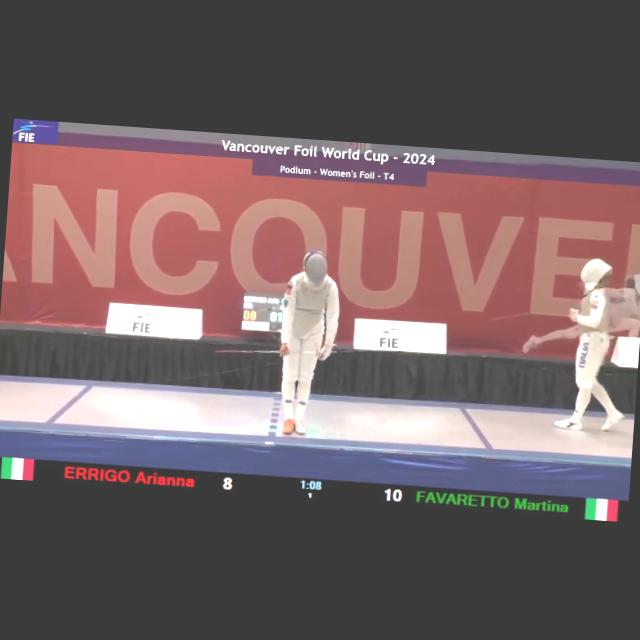blade: (213, 339, 326, 362), (492, 300, 580, 326)
